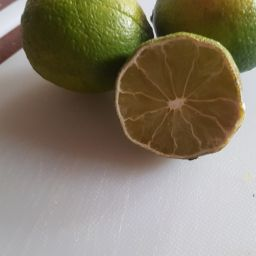Lemon: (111, 25, 249, 175), (11, 3, 161, 102), (144, 1, 256, 78)
